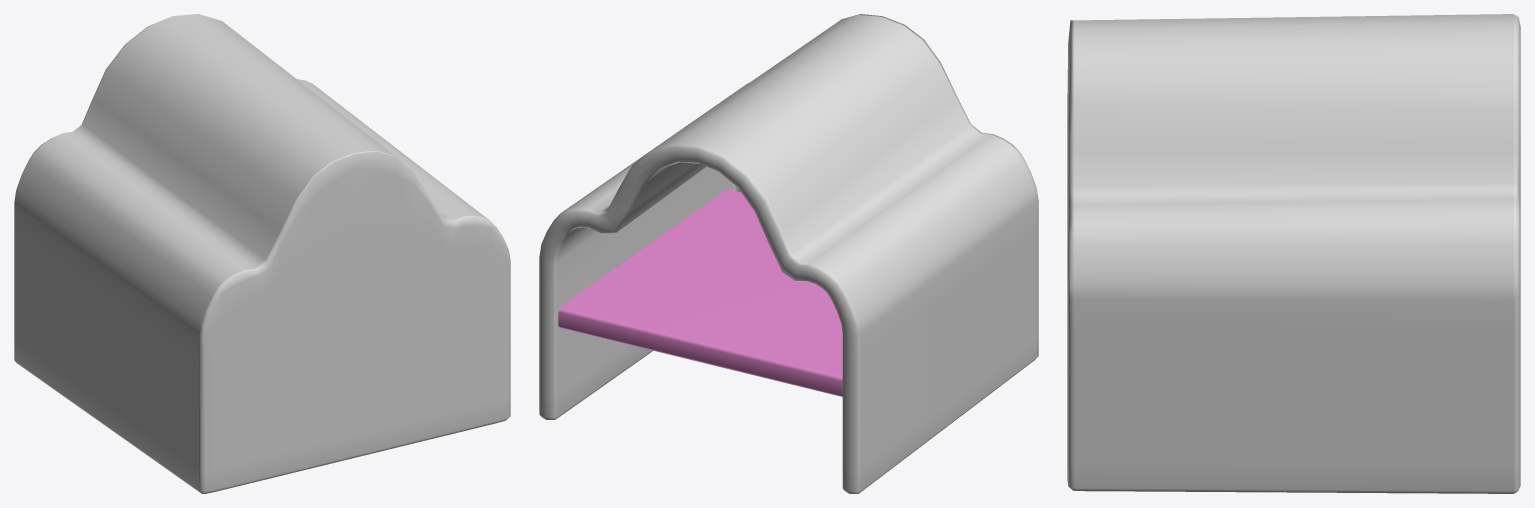
The model's file is ENV_HAU_SHOWCASTOP_MODEL.fbx.
3 views of the same model, side by side, from view 1: azimuth 30°, elevation 25°; view 2: azimuth 150°, elevation 25°; view 3: azimuth 270°, elevation 25° (orthographic). The views are drawn at different scales.
Parts seen in each view (by area): view 1: ENV_HAU_SHOWCASTOP_MODEL; view 2: ENV_HAU_SHOWCASTOP_MODEL; view 3: ENV_HAU_SHOWCASTOP_MODEL.
Boxes of the visible parts, bbox=[...] form: ENV_HAU_SHOWCASTOP_MODEL: bbox=[14, 14, 510, 493]; ENV_HAU_SHOWCASTOP_MODEL: bbox=[539, 14, 1038, 493]; ENV_HAU_SHOWCASTOP_MODEL: bbox=[1067, 14, 1520, 493].
Bounding box in the file's own units: 83.17 × 76.79 × 83.74.
